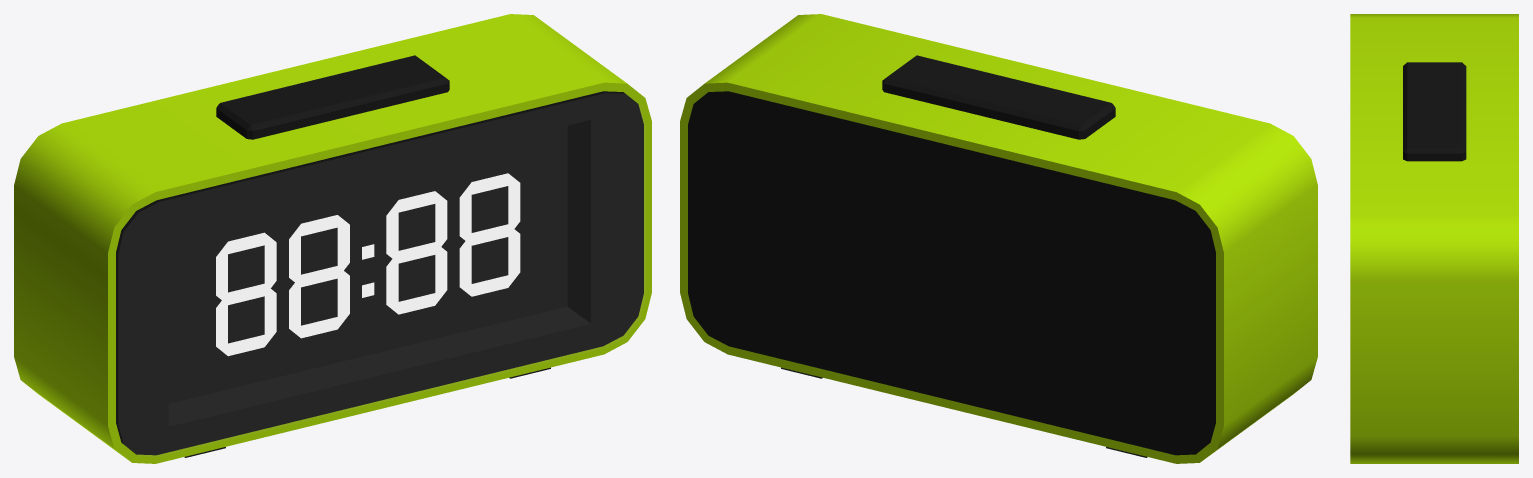
File: tabletop-digital-clock.glb
3 views of the same model, side by side, from view 1: azimuth 30°, elevation 25°; view 2: azimuth 150°, elevation 25°; view 3: azimuth 270°, elevation 25° (orthographic). The views are drawn at different scales.
Visible parts, largest first — view 1: Body, Body.002, Cube.001; view 2: Body, Body.002, Cube.001; view 3: Body.002, Cube.001.
Boxes of the visible parts, left/top/right/bottom form: Body: left=116, top=91, right=643, bottom=455; Body.002: left=14, top=14, right=651, bottom=463; Cube.001: left=216, top=55, right=449, bottom=139; Body: left=688, top=91, right=1215, bottom=455; Body.002: left=680, top=14, right=1317, bottom=463; Cube.001: left=882, top=55, right=1115, bottom=139; Body.002: left=1350, top=14, right=1518, bottom=463; Cube.001: left=1403, top=62, right=1466, bottom=161.
Size of the model in its own units: 0.134 by 0.07 by 0.041.
